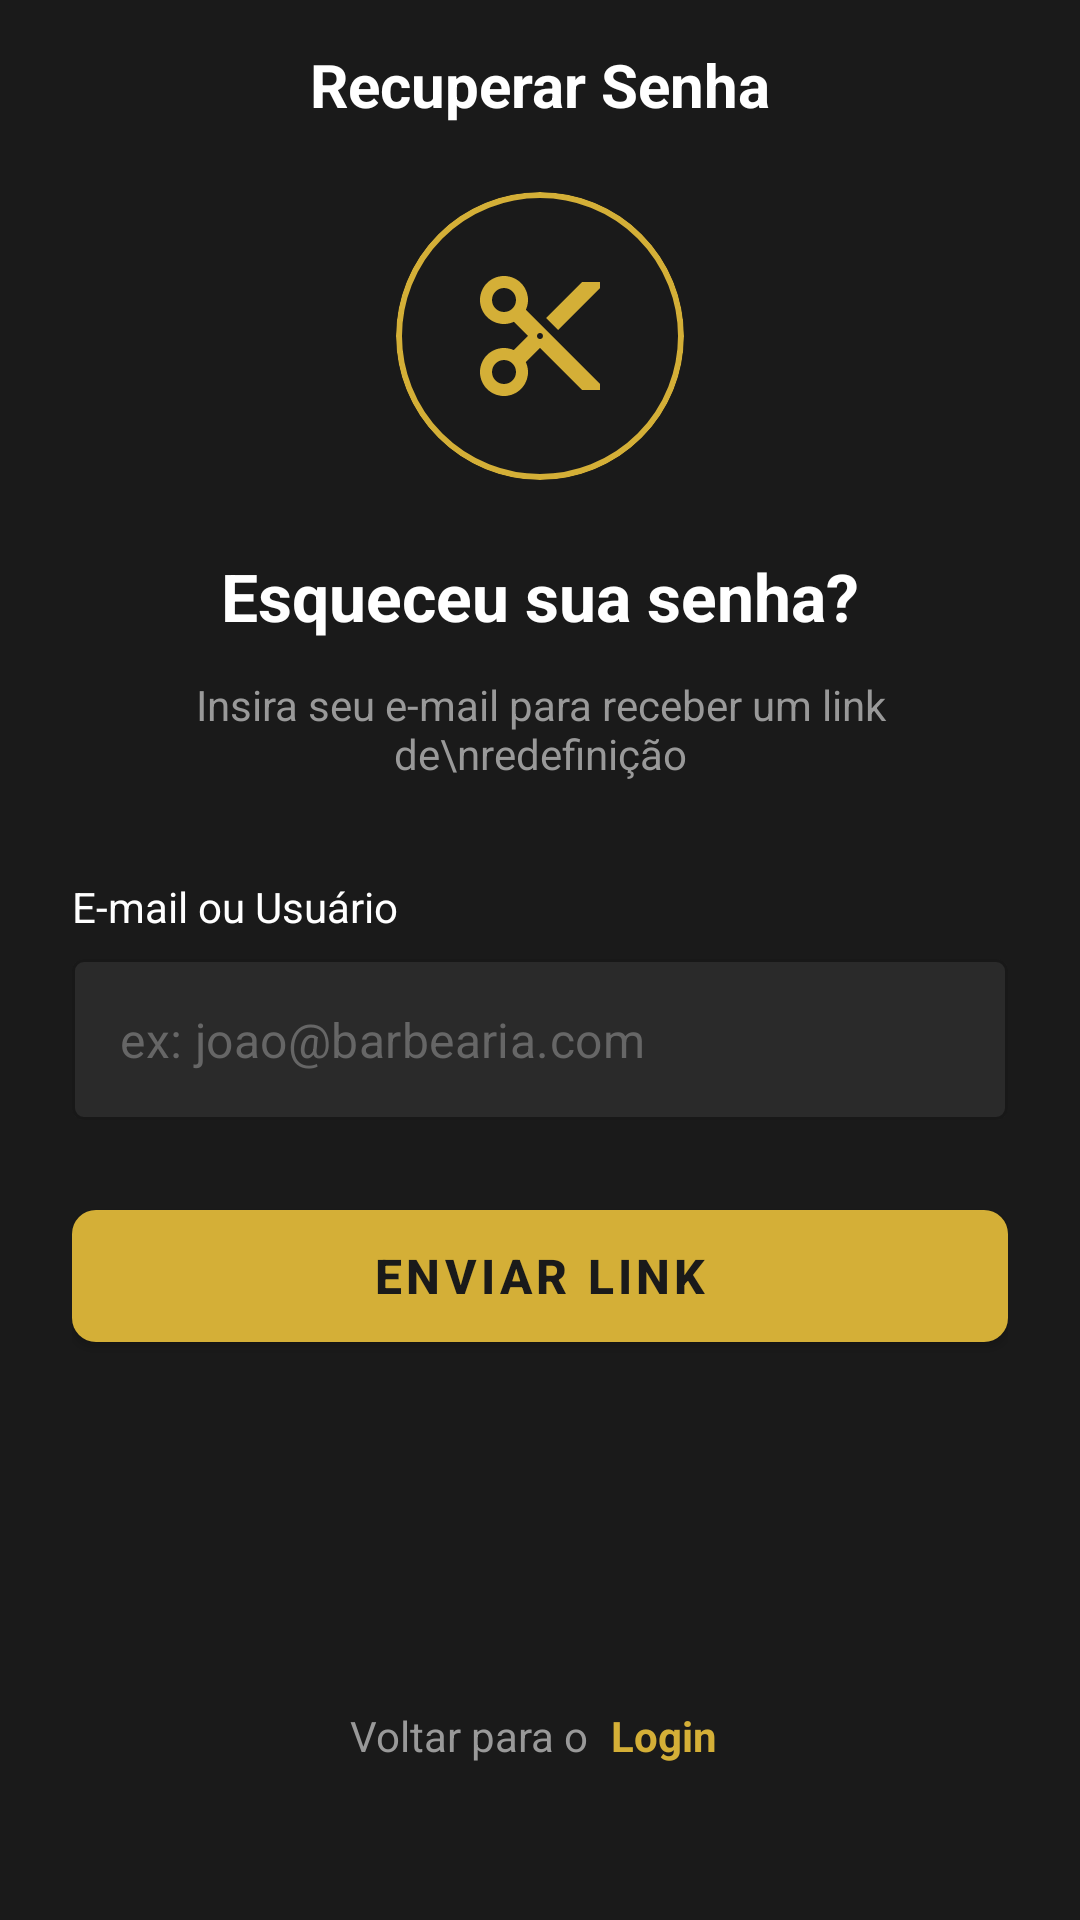

Screen size 1080px x 1920px. Icon name, then its box in pixels as (x1, y1, x2, y2):
scissors: (480, 276, 600, 396)
